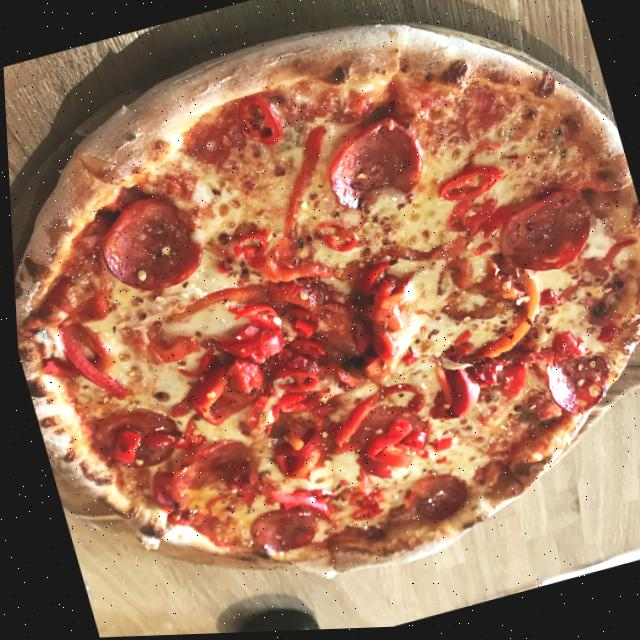pepperoni: (85, 185, 209, 303), (312, 111, 434, 230), (484, 182, 602, 290), (150, 429, 265, 526), (77, 396, 184, 481), (532, 348, 614, 426), (390, 467, 471, 537), (240, 501, 322, 566)
pizza: (0, 0, 640, 640)
